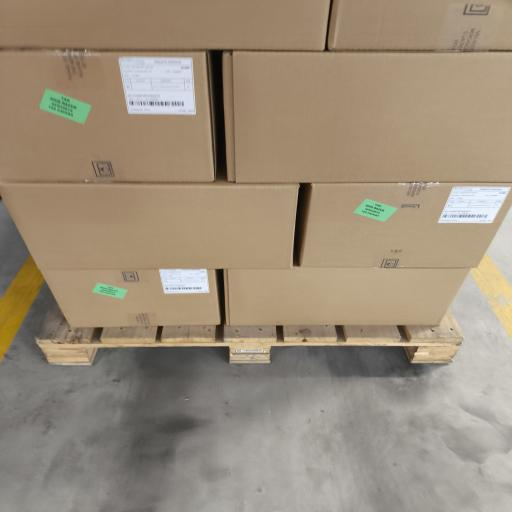pallet: (36, 304, 463, 364)
